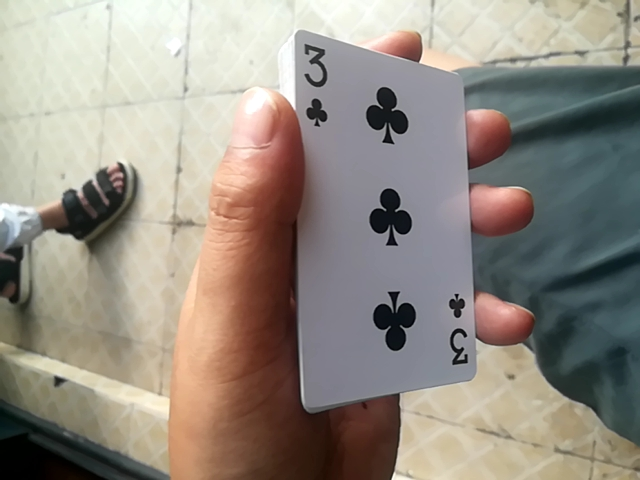mh 3: (282, 33, 489, 431)
